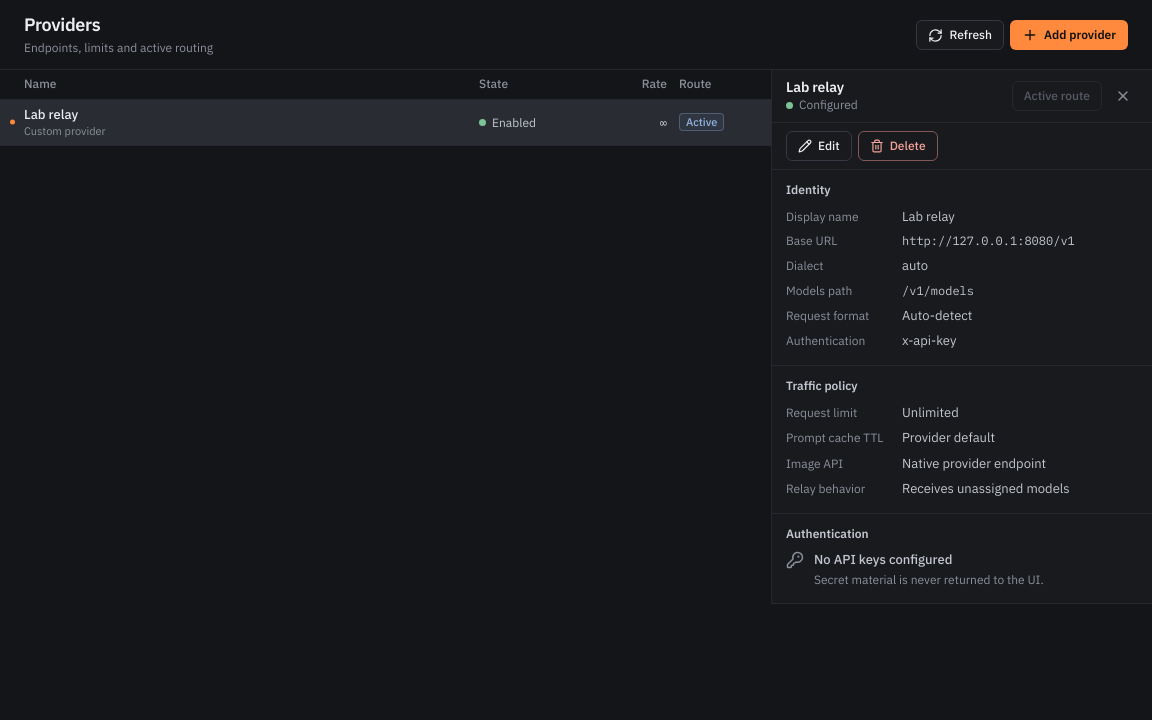
ProvidersPage inspector › holds the neutral inspector instead of the active provider when the requested row is missing
Expected: the element named "Lab relay provider details" is shown, 772,70 -> 1151,604
Click the button "Add provider". click: (1069, 35)
box: 1010,20 -> 1128,50
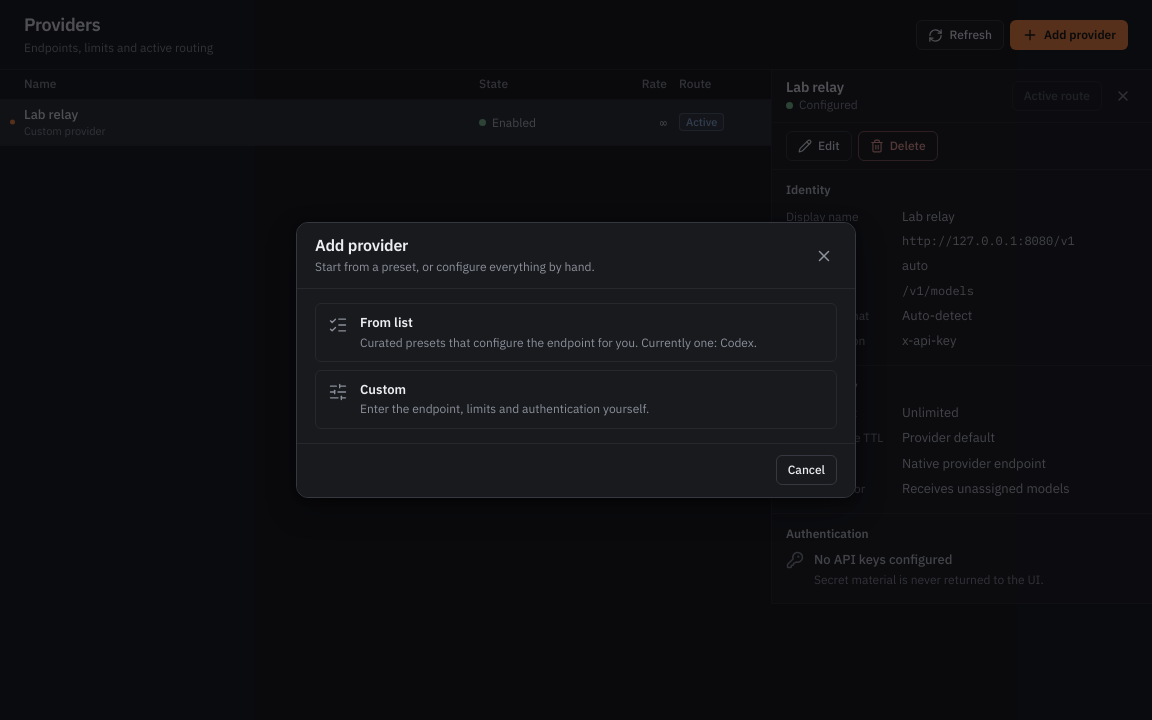
Click the button "From list". click: (576, 332)
box: 315,303 -> 837,362
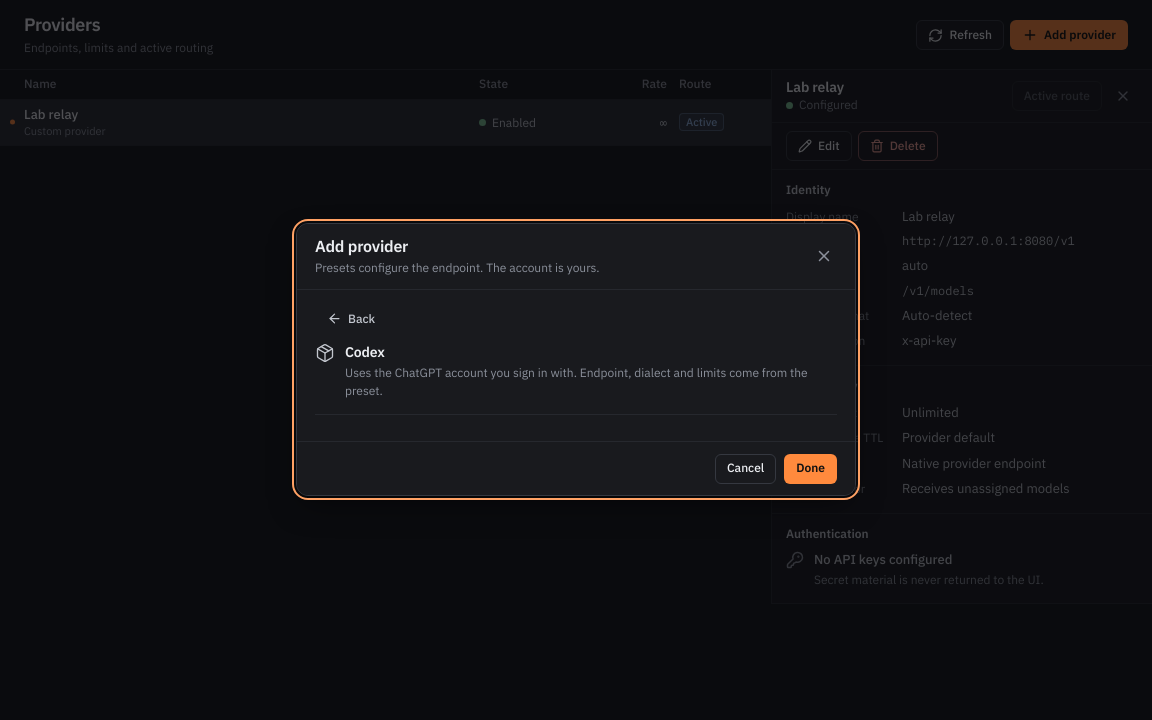
Click the button "Done". click: (811, 469)
box: 784,454 -> 837,484
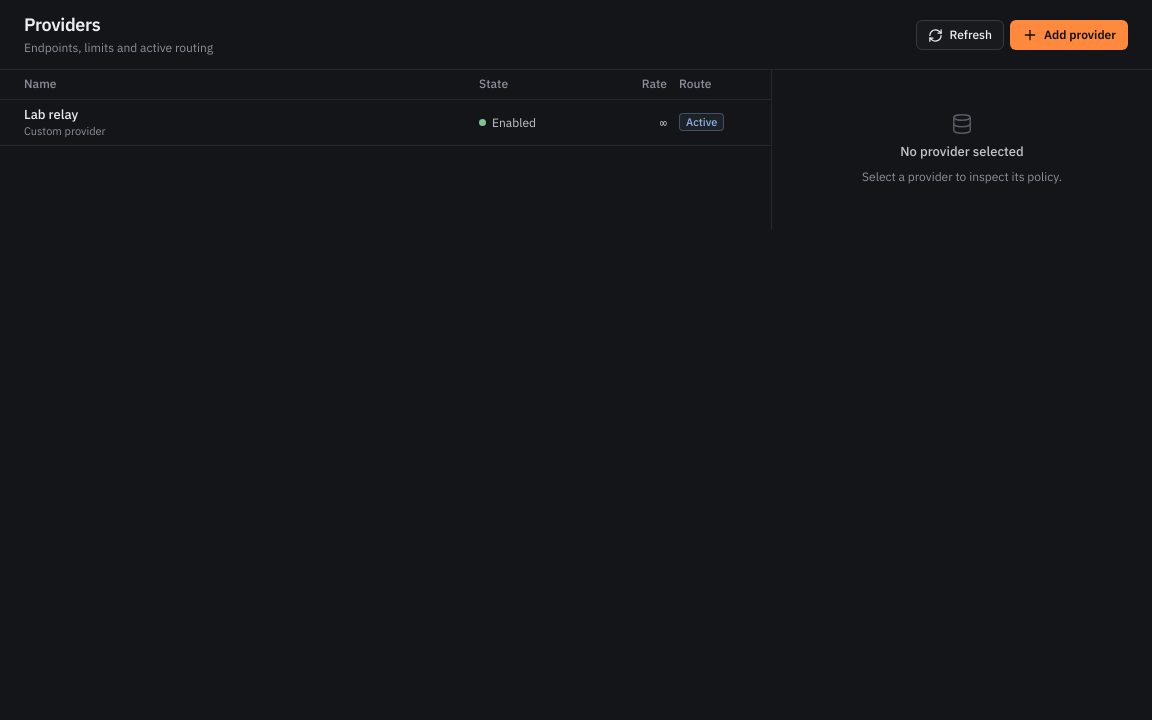
Result: the text "No provider selected" is shown at 900,143 -> 1024,162
